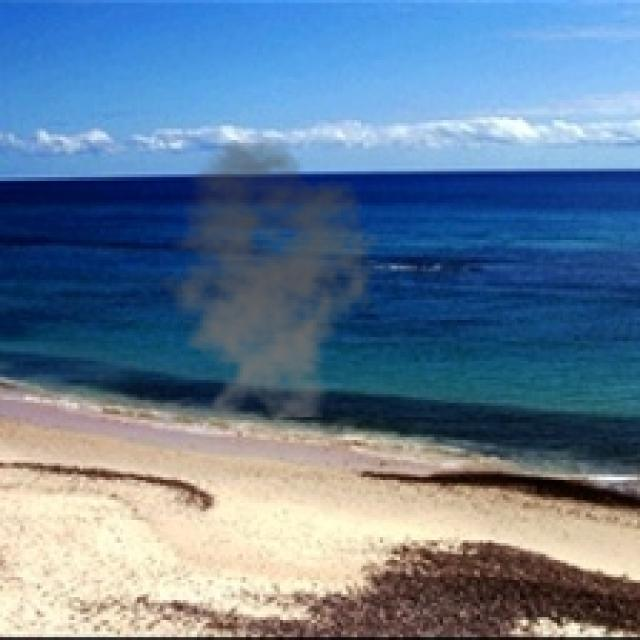smoke: (146, 137, 383, 417)
